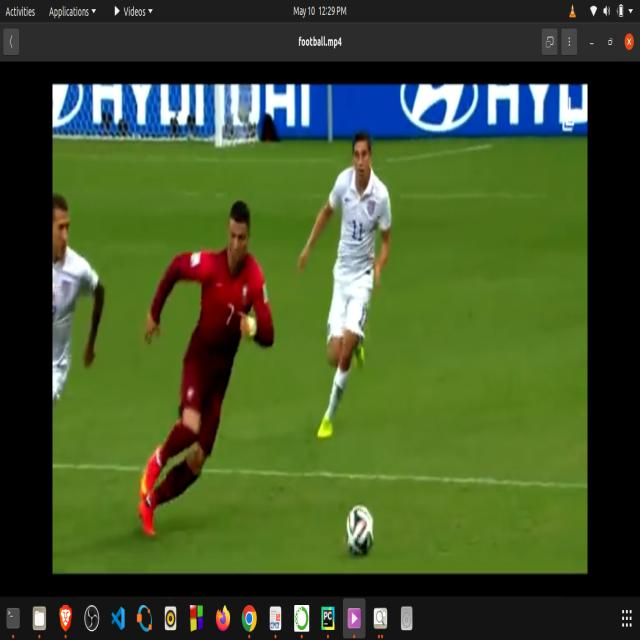Ball: (342, 497, 388, 567)
football-players: (135, 202, 281, 546), (296, 122, 397, 452), (53, 192, 110, 418)
